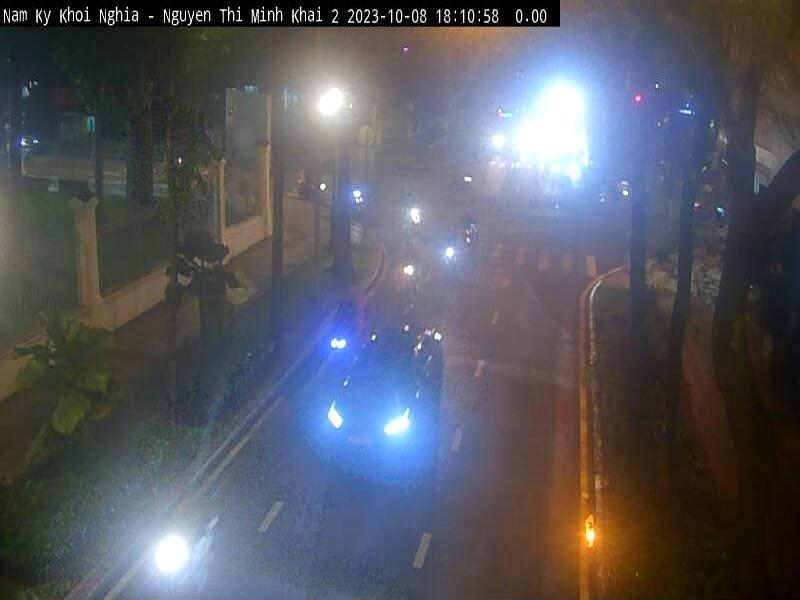car: (323, 318, 443, 468)
